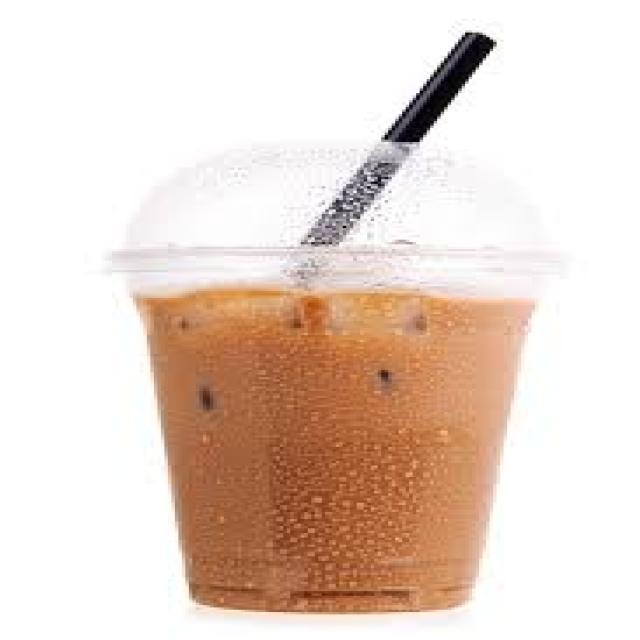bottle: (140, 291, 533, 611)
